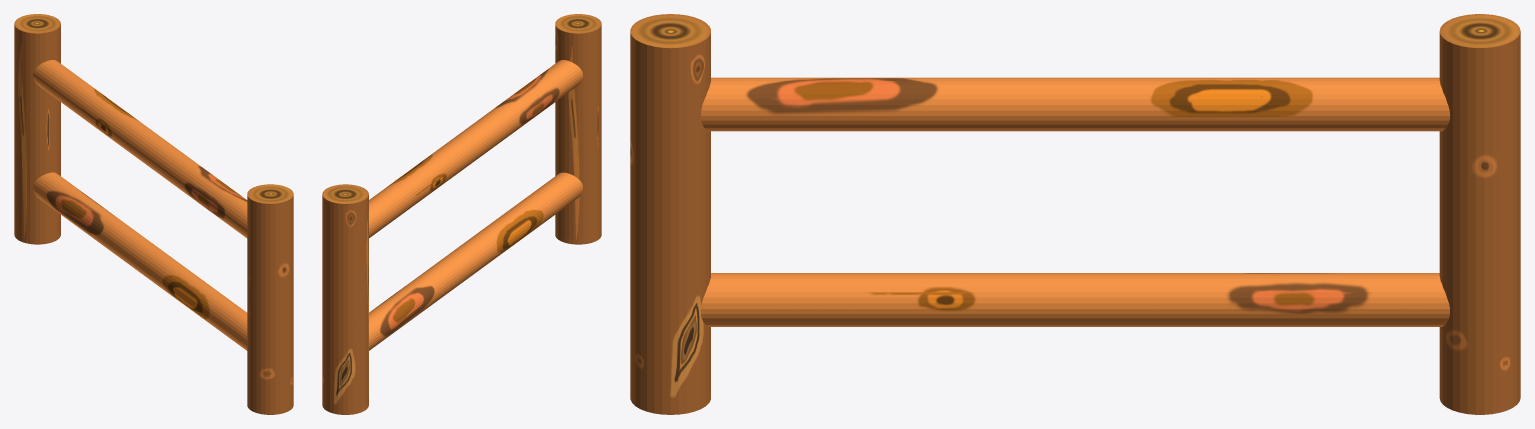
Rendered from plot1_jeden_slupek.obj.
3 renders of one model, left to right at view 1: azimuth 30°, elevation 25°; view 2: azimuth 150°, elevation 25°; view 3: azimuth 270°, elevation 25°, orthographic. The views are drawn at different scales.
Visible parts, largest first — view 1: Cylinder.004_Cylinder.002, Cylinder.003, Cylinder.002_Cylinder.006, Cylinder.001; view 2: Cylinder.003, Cylinder.004_Cylinder.002, Cylinder.002_Cylinder.006, Cylinder.001; view 3: Cylinder.002_Cylinder.006, Cylinder.001, Cylinder.003, Cylinder.004_Cylinder.002.
Part boxes in pixels (<box>): Cylinder.004_Cylinder.002: <box>247,184,293,414</box>; Cylinder.003: <box>14,14,60,244</box>; Cylinder.002_Cylinder.006: <box>33,60,247,238</box>; Cylinder.001: <box>33,172,247,350</box>; Cylinder.003: <box>322,184,368,414</box>; Cylinder.004_Cylinder.002: <box>555,14,601,244</box>; Cylinder.002_Cylinder.006: <box>369,60,583,238</box>; Cylinder.001: <box>369,172,582,350</box>; Cylinder.002_Cylinder.006: <box>701,77,1450,131</box>; Cylinder.001: <box>701,273,1449,326</box>; Cylinder.003: <box>1439,14,1520,414</box>; Cylinder.004_Cylinder.002: <box>630,14,710,414</box>.
Bounding box in the file's own units: 0.3 × 1.5 × 3.3.
3 materials, 3 textured.
